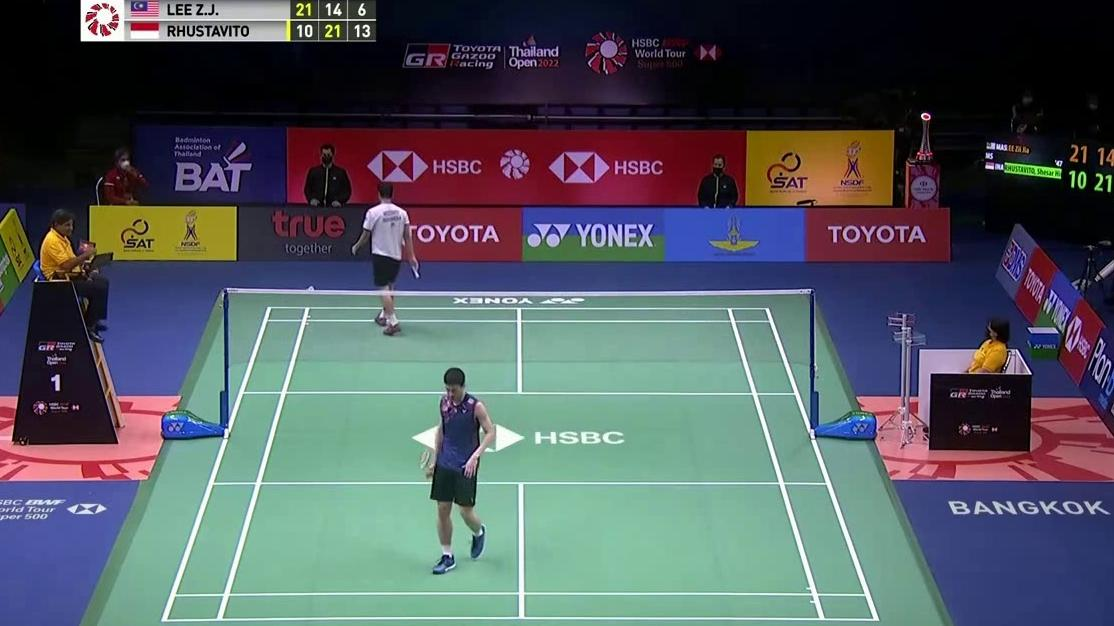racket: (418, 449, 437, 477), (408, 265, 420, 280)
shuttle: (307, 285, 314, 292)
